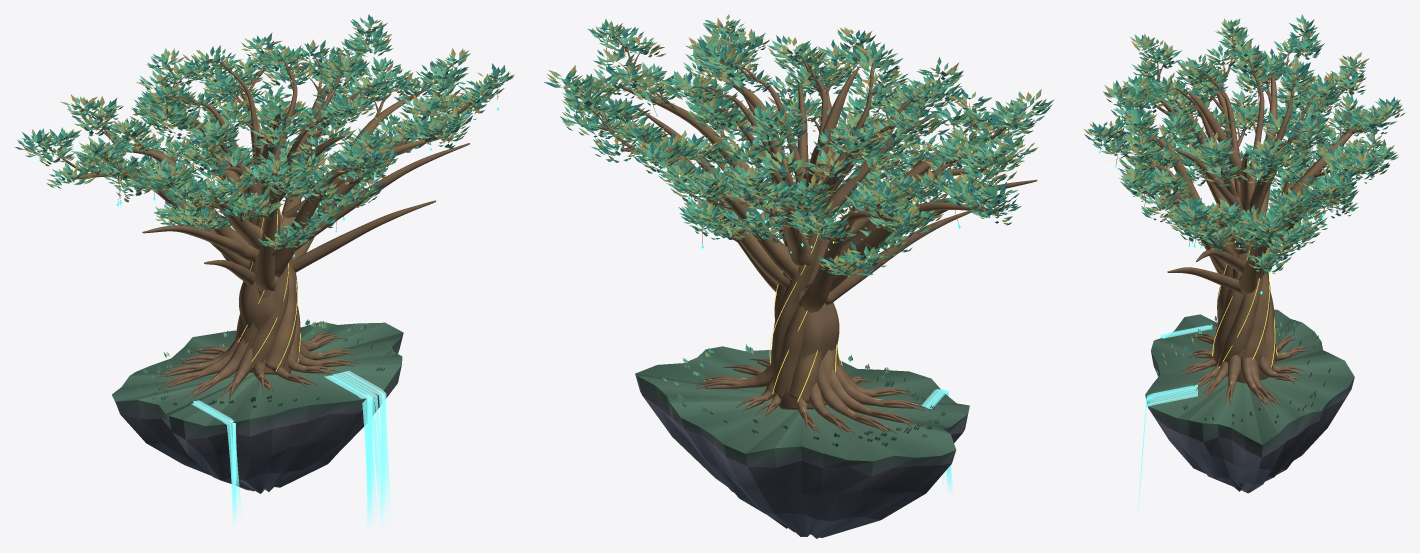
Rendered from yggdrasil-web.glb.
The picture shows the model from 3 angles, left to right: view 1: azimuth 30°, elevation 25°; view 2: azimuth 150°, elevation 25°; view 3: azimuth 270°, elevation 25°; orthographic projection. The views are drawn at different scales.
Visible parts, largest first — view 1: 02 | Jade and bronze leaf canopy, 01 | Heartwood and roots, 05 | Floating island strata, 06 | Astral waterfalls; view 2: 02 | Jade and bronze leaf canopy, 05 | Floating island strata, 01 | Heartwood and roots; view 3: 02 | Jade and bronze leaf canopy, 05 | Floating island strata, 01 | Heartwood and roots, 06 | Astral waterfalls, 03 | Golden sap and seed lights.
Boxes of the visible parts, left/top/right/bottom form: 02 | Jade and bronze leaf canopy: left=15, top=14, right=514, bottom=407; 01 | Heartwood and roots: left=36, top=30, right=498, bottom=400; 05 | Floating island strata: left=112, top=322, right=403, bottom=493; 06 | Astral waterfalls: left=189, top=371, right=390, bottom=526; 02 | Jade and bronze leaf canopy: left=544, top=14, right=1053, bottom=446; 05 | Floating island strata: left=635, top=346, right=969, bottom=538; 01 | Heartwood and roots: left=569, top=30, right=1037, bottom=434; 02 | Jade and bronze leaf canopy: left=1084, top=14, right=1404, bottom=425; 05 | Floating island strata: left=1145, top=309, right=1354, bottom=493; 01 | Heartwood and roots: left=1100, top=31, right=1390, bottom=407; 06 | Astral waterfalls: left=1138, top=324, right=1212, bottom=513; 03 | Golden sap and seed lights: left=1108, top=44, right=1383, bottom=400.
Bounding box in the file's own units: 17.25 × 16.07 × 11.29.
